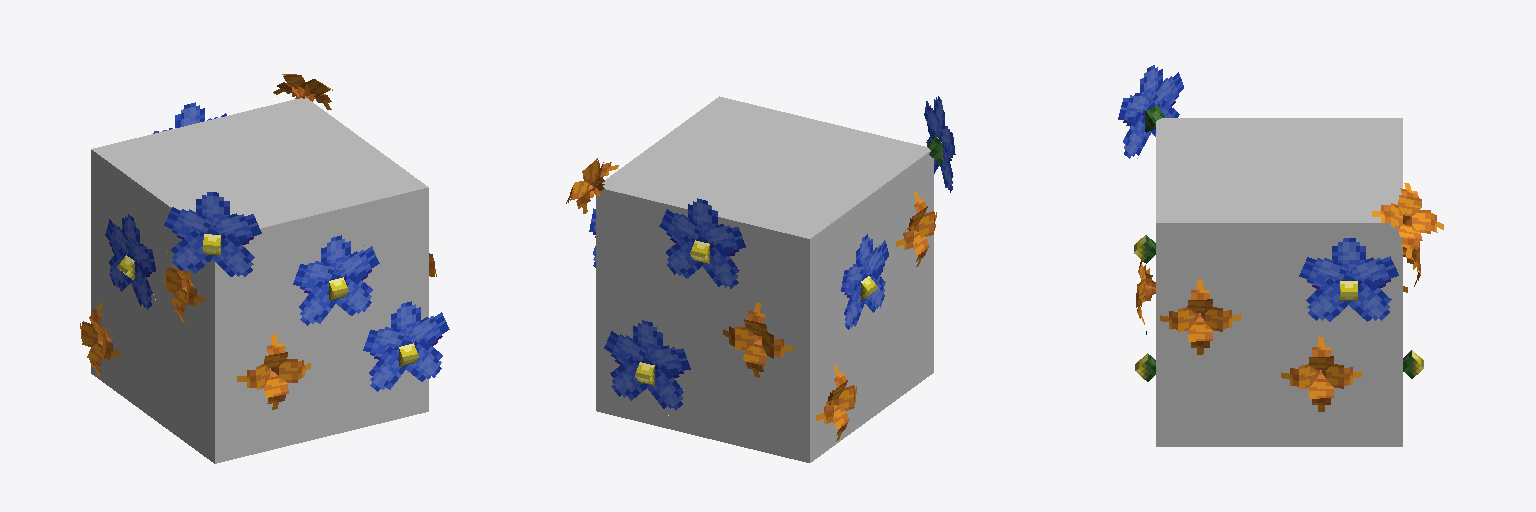
3 renders of one model, left to right at view 1: azimuth 30°, elevation 25°; view 2: azimuth 150°, elevation 25°; view 3: azimuth 270°, elevation 25°, orthographic.
Parts seen in each view (by area): view 1: cube_leave, cube.125_campanillas_chinas_block, cube.124_campanillas_chinas_block, cube.123_campanillas_chinas_block, cube.099_campanillas_chinas_block, cube.106_campanillas_chinas_block, cube.122_campanillas_chinas_block, cube.098_campanillas_chinas_block, cube.107_campanillas_chinas_block, cube.105_campanillas_chinas_block, cube.100_campanillas_chinas_block, cube.101_campanillas_chinas_block (+6 smaller); view 2: cube_leave, cube.086_campanillas_chinas_block, cube.093_campanillas_chinas_block, cube.092_campanillas_chinas_block, cube.087_campanillas_chinas_block, cube.088_campanillas_chinas_block, cube.091_campanillas_chinas_block, cube.095_campanillas_chinas_block, cube.090_campanillas_chinas_block, cube.089_campanillas_chinas_block, cube.096_campanillas_chinas_block, cube.117_campanillas_chinas_block; view 3: cube_leave, cube.113_campanillas_chinas_block, cube.112_campanillas_chinas_block, cube.111_campanillas_chinas_block, cube.110_campanillas_chinas_block, cube.109_campanillas_chinas_block, cube.125_campanillas_chinas_block, cube.123_campanillas_chinas_block, cube.122_campanillas_chinas_block.
Boxes of the visible parts, x1,y1,x2,y2 form: cube_leave: [91, 97, 428, 463]; cube.125_campanillas_chinas_block: [209, 234, 254, 276]; cube.124_campanillas_chinas_block: [167, 230, 211, 273]; cube.123_campanillas_chinas_block: [164, 207, 218, 239]; cube.099_campanillas_chinas_block: [299, 279, 335, 325]; cube.106_campanillas_chinas_block: [369, 345, 405, 391]; cube.122_campanillas_chinas_block: [214, 213, 261, 244]; cube.098_campanillas_chinas_block: [332, 273, 372, 315]; cube.107_campanillas_chinas_block: [402, 339, 442, 381]; cube.105_campanillas_chinas_block: [363, 327, 411, 359]; cube.100_campanillas_chinas_block: [293, 261, 341, 293]; cube.101_campanillas_chinas_block: [336, 245, 379, 280]; cube_leave: [596, 96, 933, 462]; cube.086_campanillas_chinas_block: [699, 242, 739, 288]; cube.093_campanillas_chinas_block: [644, 363, 683, 415]; cube.092_campanillas_chinas_block: [610, 357, 646, 400]; cube.087_campanillas_chinas_block: [666, 235, 701, 278]; cube.088_campanillas_chinas_block: [659, 209, 707, 242]; cube.091_campanillas_chinas_block: [604, 331, 652, 364]; cube.095_campanillas_chinas_block: [703, 224, 745, 256]; cube.090_campanillas_chinas_block: [648, 345, 690, 377]; cube.089_campanillas_chinas_block: [633, 320, 662, 354]; cube.096_campanillas_chinas_block: [688, 198, 717, 232]; cube.117_campanillas_chinas_block: [843, 279, 864, 329]; cube_leave: [1156, 118, 1402, 446]; cube.113_campanillas_chinas_block: [1345, 278, 1391, 321]; cube.112_campanillas_chinas_block: [1305, 278, 1347, 321]; cube.111_campanillas_chinas_block: [1299, 257, 1354, 288]; cube.110_campanillas_chinas_block: [1350, 256, 1398, 288]; cube.109_campanillas_chinas_block: [1332, 238, 1365, 271]; cube.125_campanillas_chinas_block: [1123, 109, 1152, 158]; cube.123_campanillas_chinas_block: [1147, 72, 1183, 108]; cube.122_campanillas_chinas_block: [1118, 93, 1150, 126].
Size of the model in its own units: 1.32 by 1.22 by 1.32.
3 materials, 2 textured.